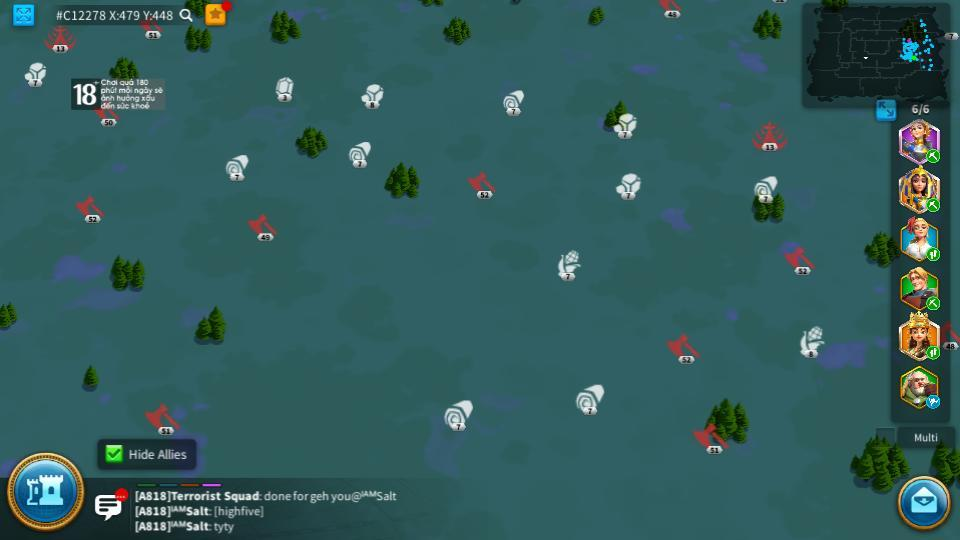gem-z-out: (274, 76, 293, 98)
march_idle: (925, 396, 942, 408)
march_marching: (925, 197, 941, 212), (925, 149, 941, 162), (925, 248, 942, 260), (925, 347, 941, 359), (925, 297, 942, 308)
